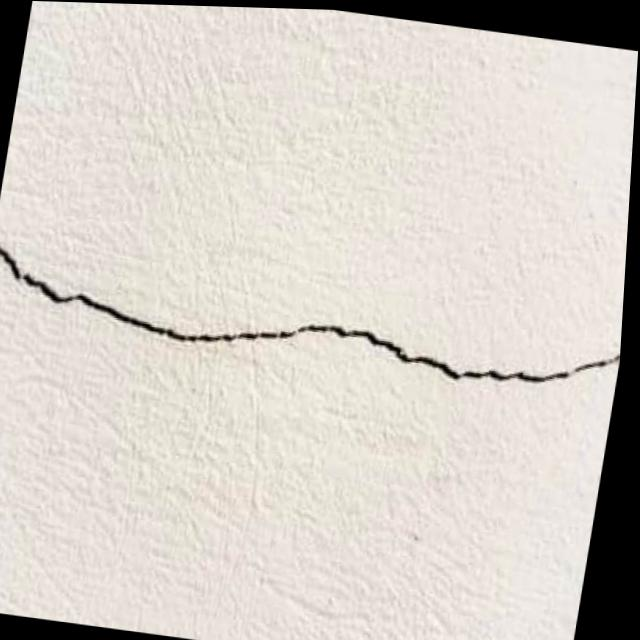Crack: (0, 211, 630, 412)
